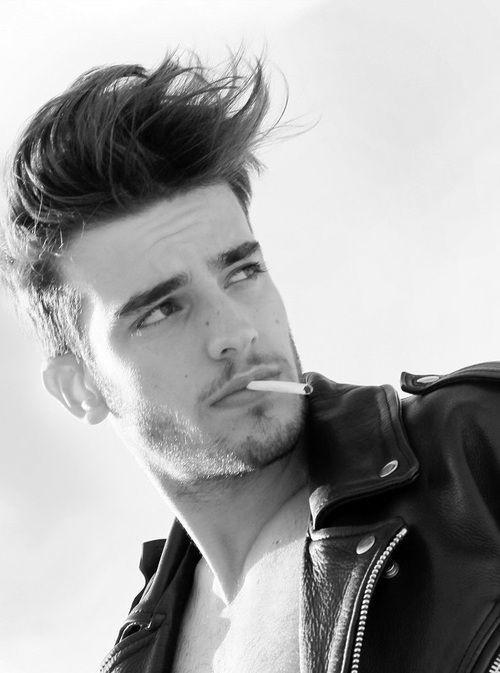cigarette: (247, 380, 313, 395)
